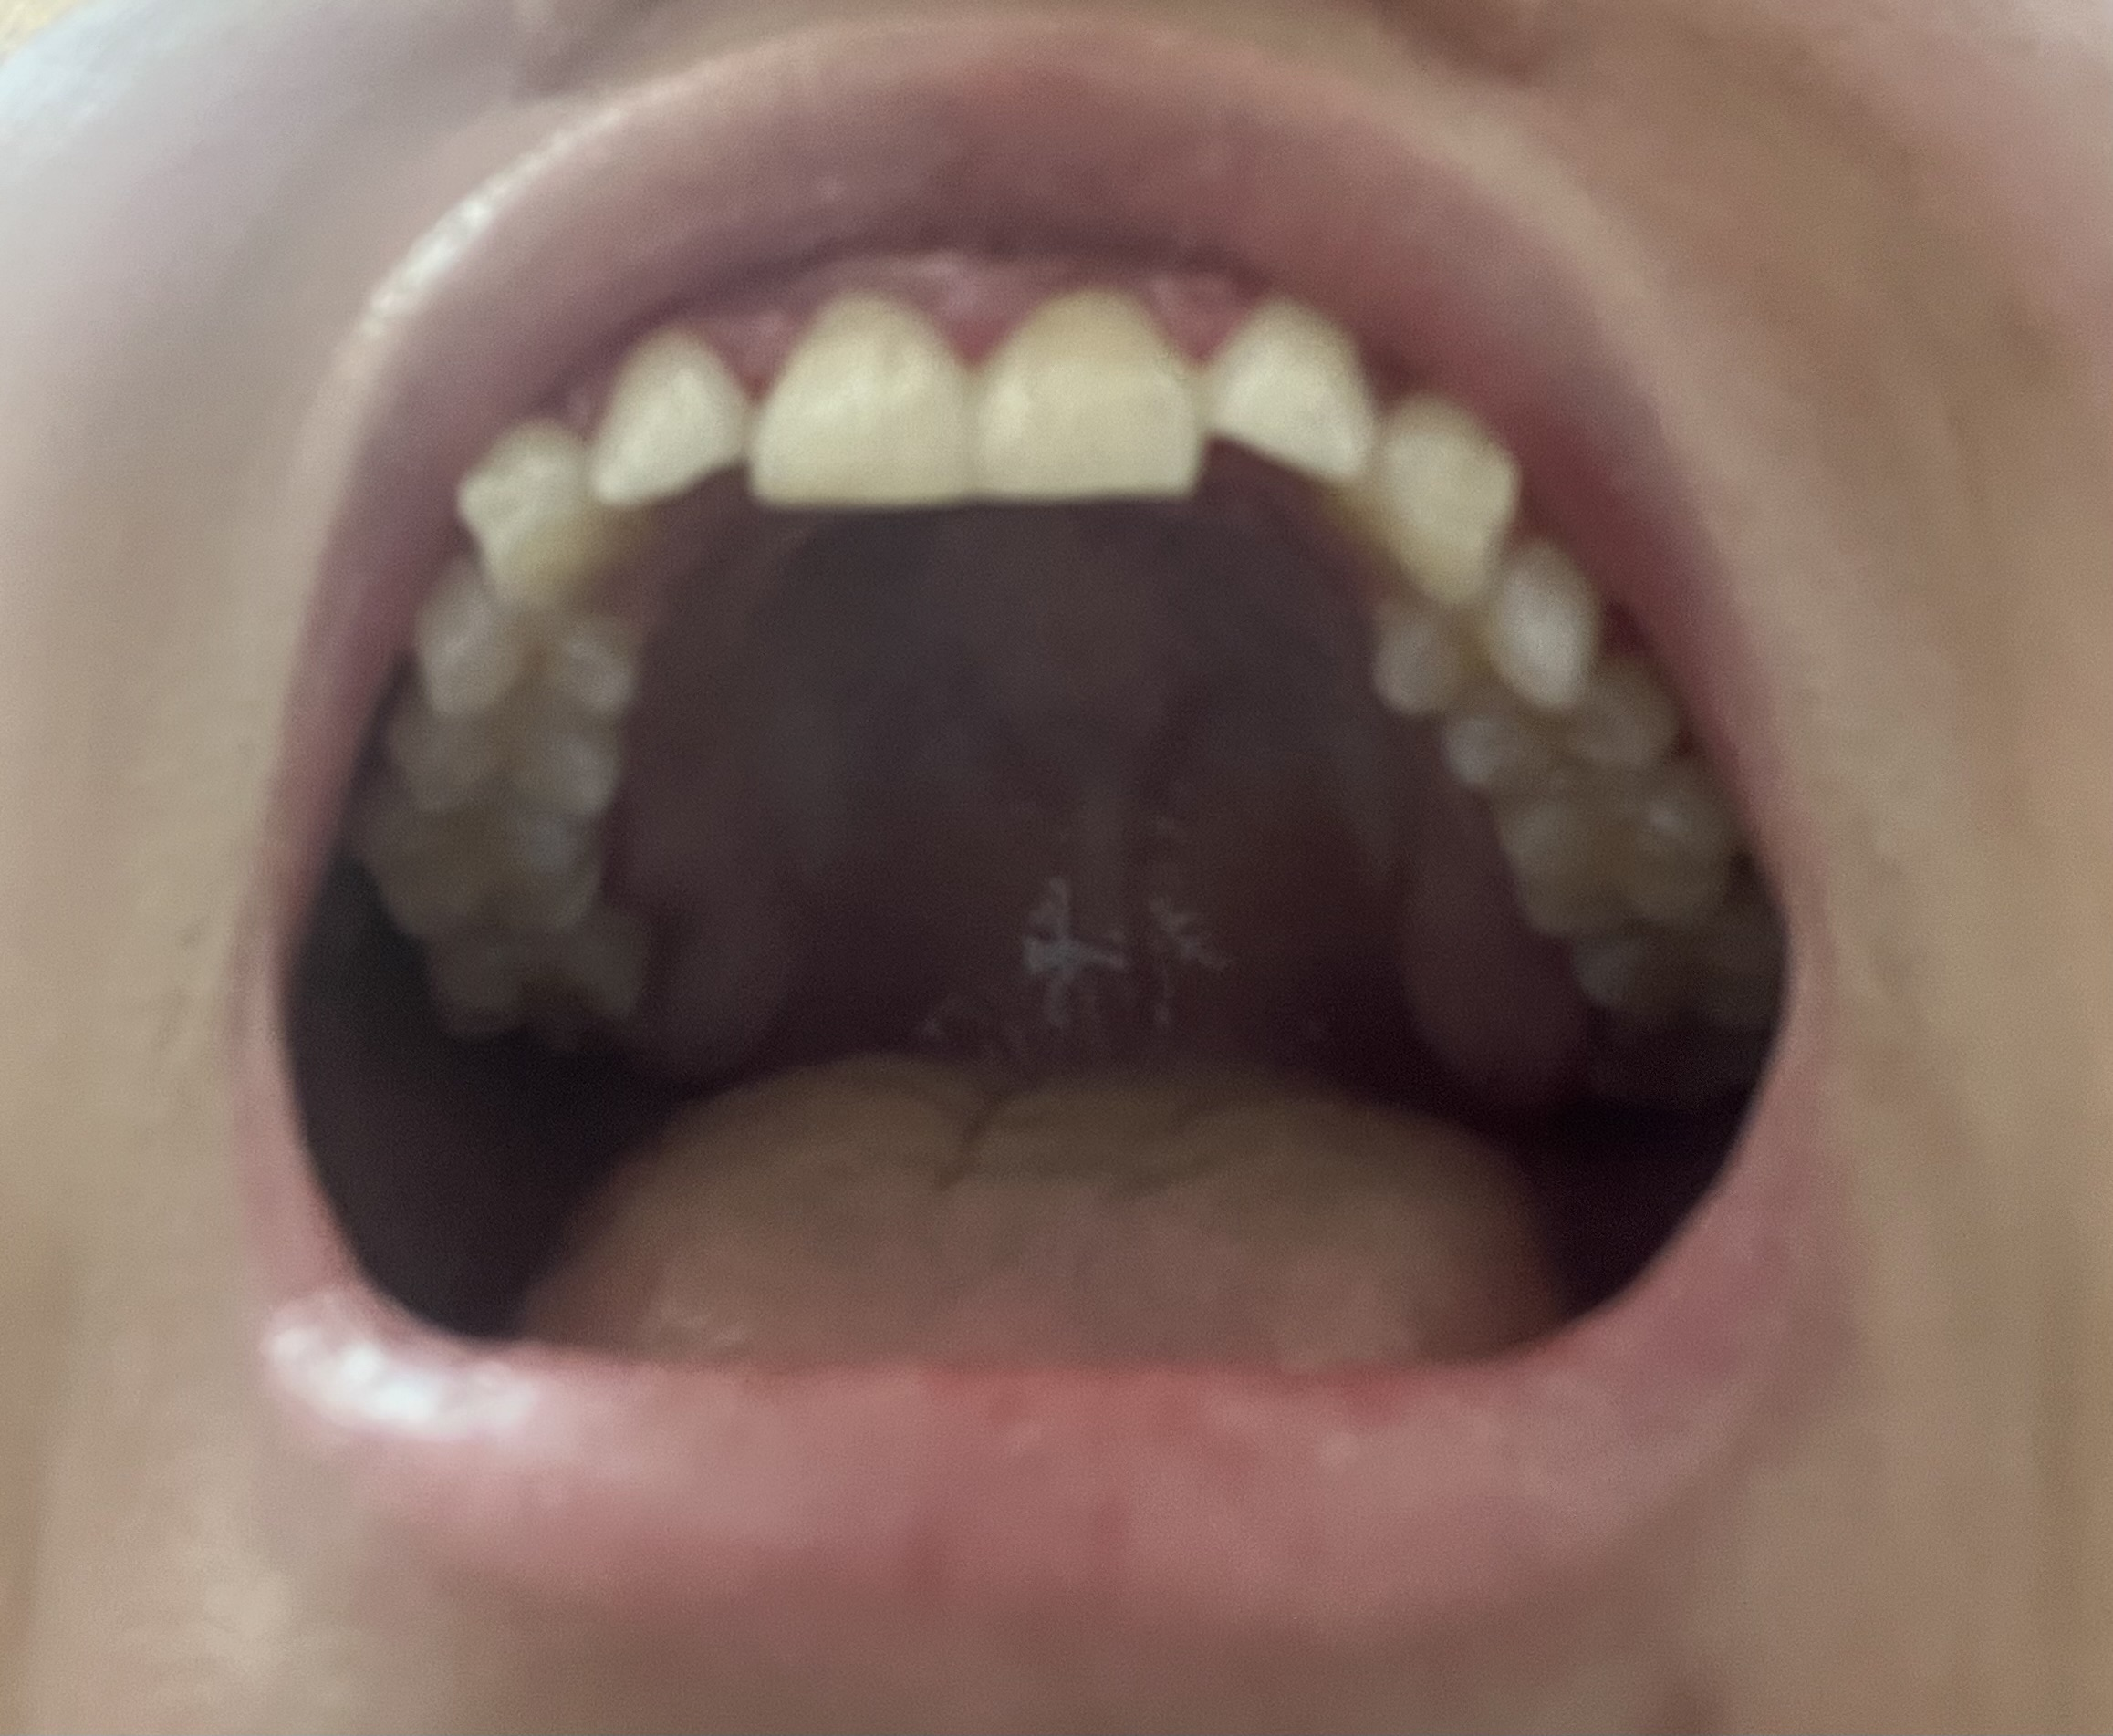teeth: (760, 288, 985, 500), (985, 288, 1188, 486), (1371, 558, 1590, 734), (1471, 806, 1741, 941), (460, 430, 644, 614), (362, 792, 581, 944), (416, 907, 649, 1050), (416, 576, 644, 720), (383, 706, 623, 841), (1206, 293, 1374, 476), (1330, 418, 1516, 581), (1430, 679, 1695, 792), (1567, 904, 1774, 1029), (597, 325, 753, 481)
